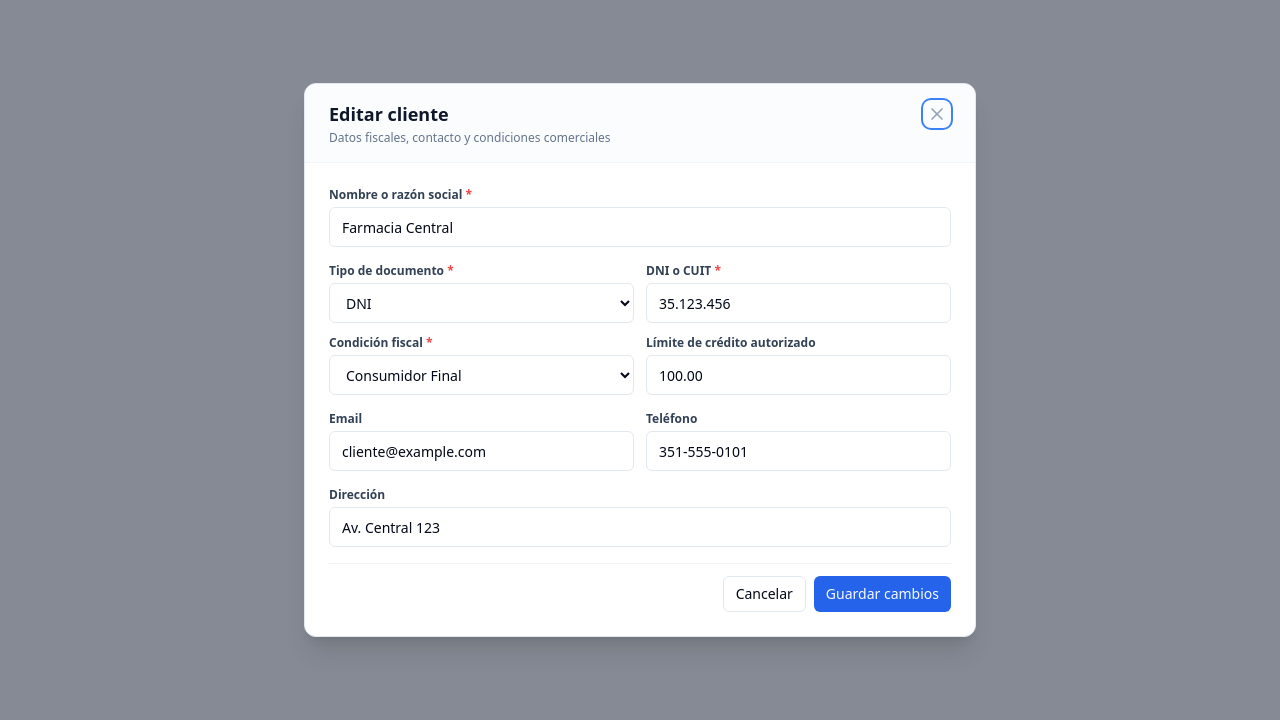
it: CustomerFormModal › keeps the form open and marks a duplicated document from a stable 409
Replace the text in the field labelled "DNI o CUIT *" with "35.123.457" at (798, 303), box [646,283,951,323]
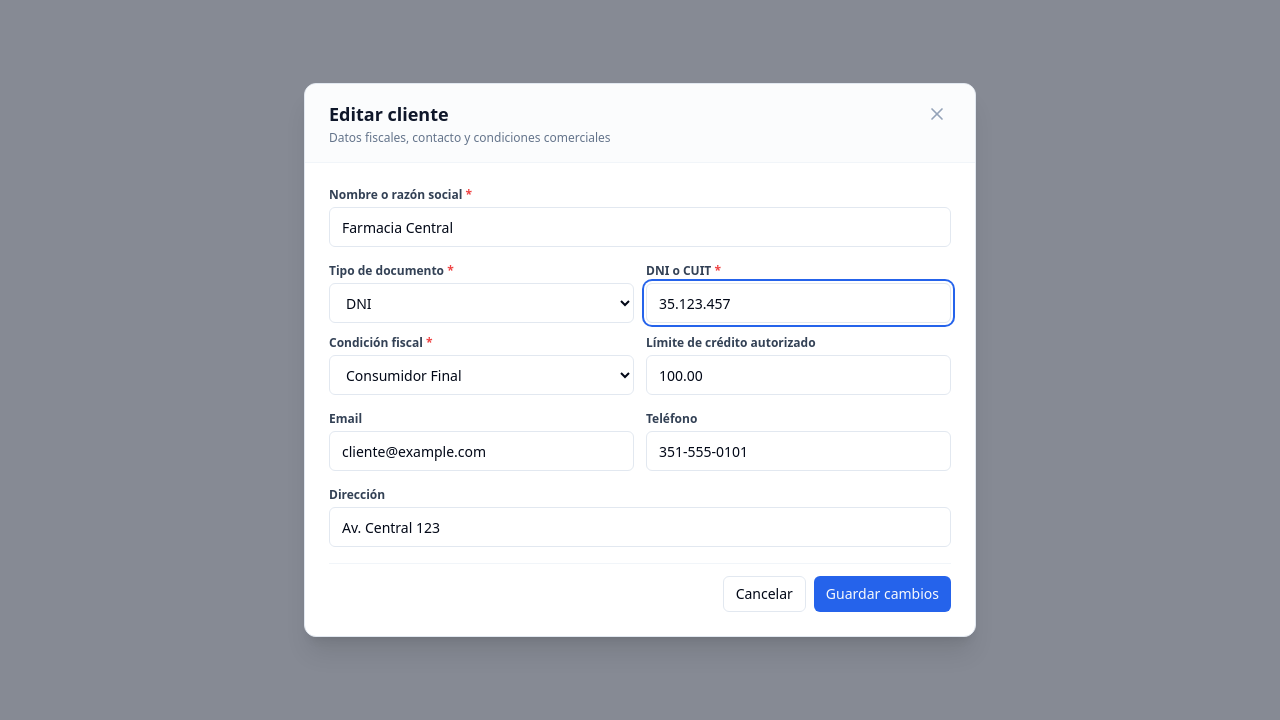
Click the button "Guardar cambios" at (882, 594), box [814,576,951,612]
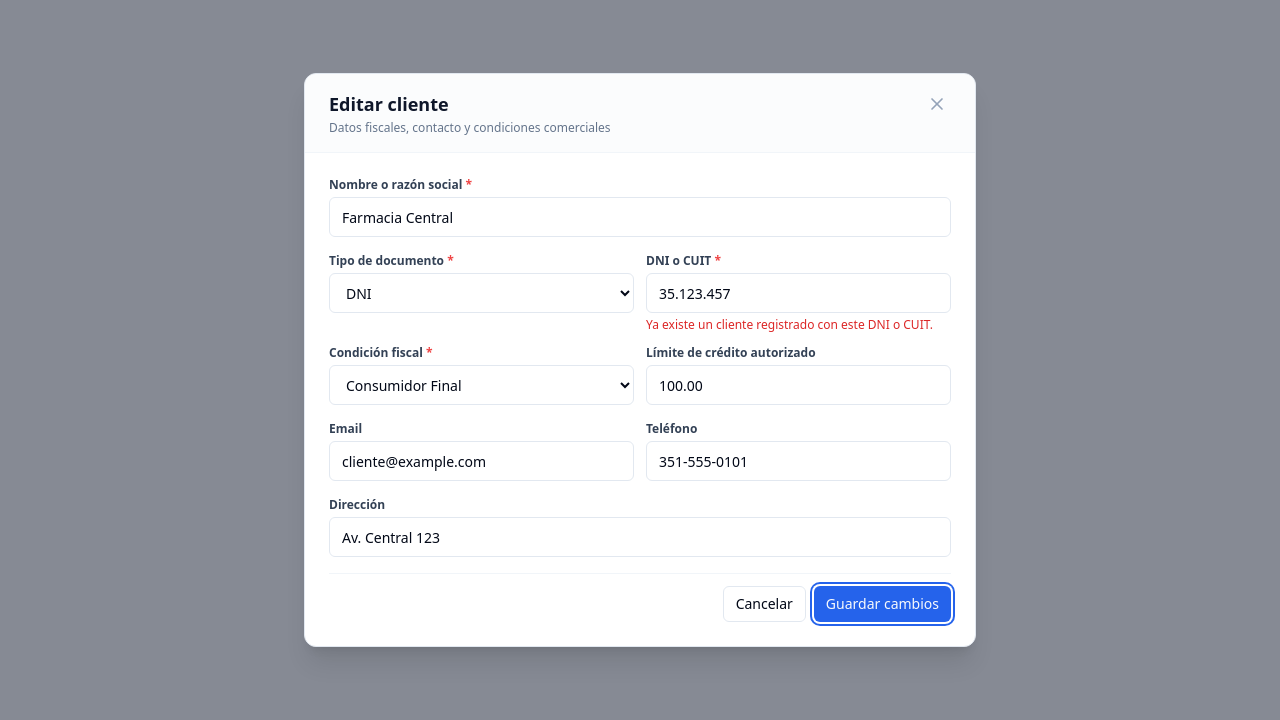
Expected: the dialog is shown, [304,73,976,647]
Now the text "Ya existe un cliente registrado con este DNI o CUIT." is shown, box [646,317,951,333]
